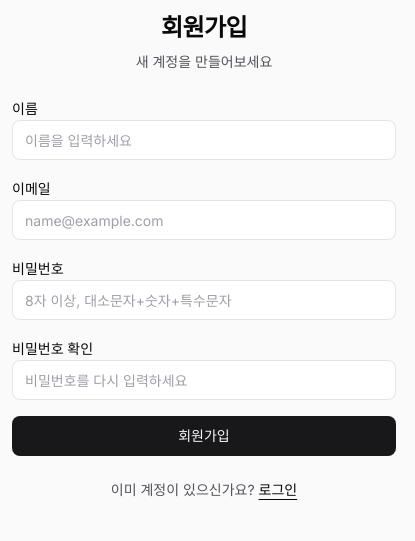
Test: Register › 비밀번호 복잡성 미충족 시 에러가 표시된다
Step 1. Type "테스트유저" into the field labelled "이름" → (204, 140), box [12,120,396,160]
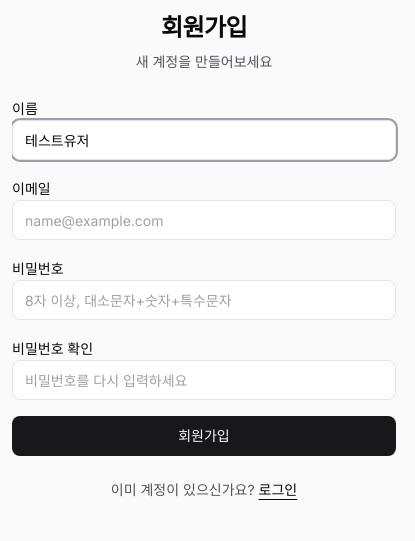
Step 2. Type "test@example.com" into the field labelled "이메일" → (204, 220), box [12,200,396,240]
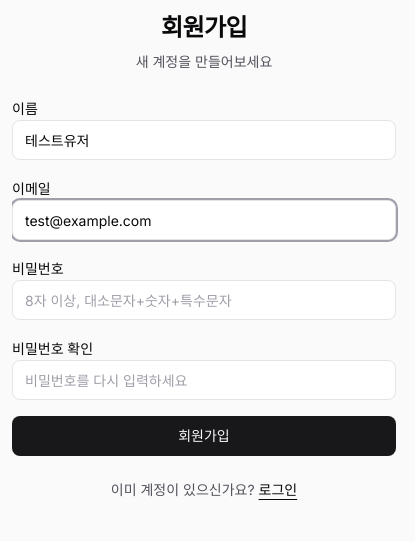
Step 3. Type "short" into the password field labelled "비밀번호" → (204, 300), box [12,280,396,320]
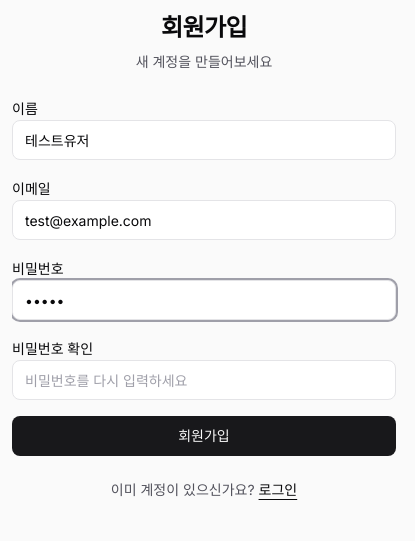
Step 4. Type "short" into the password field labelled "비밀번호 확인" → (204, 380), box [12,360,396,400]
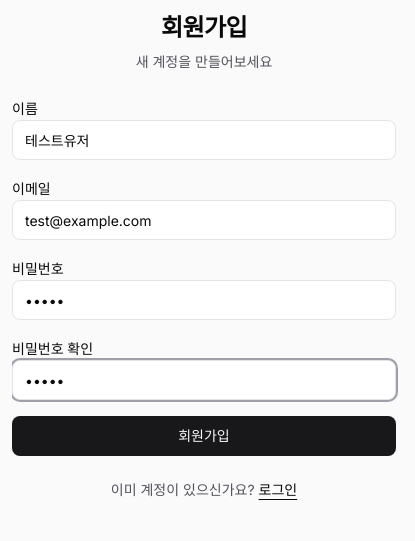
Step 5. Click the button "회원가입" → (204, 436), box [12,416,396,456]
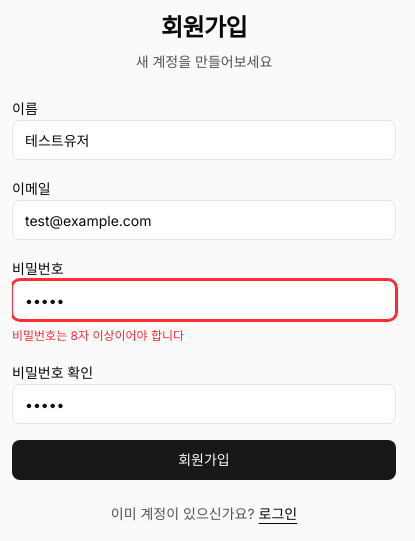
Now the text "비밀번호는 8자 이상이어야 합니다" is shown, box [12,328,184,343]
